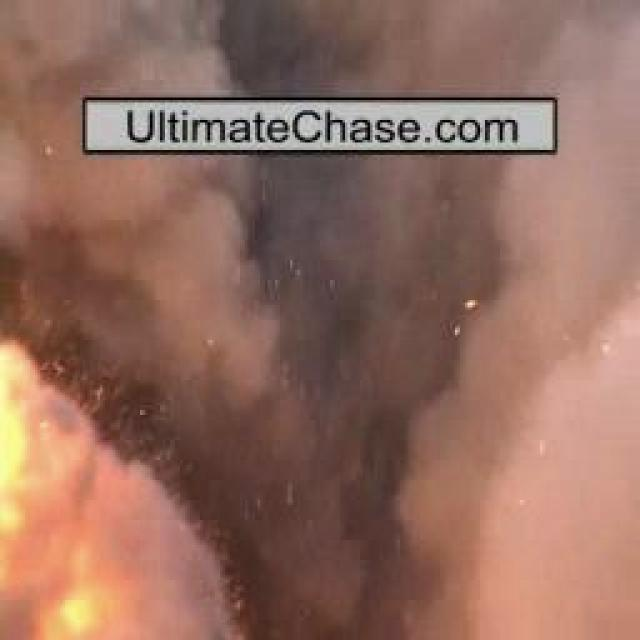Fire: (1, 317, 217, 640)
